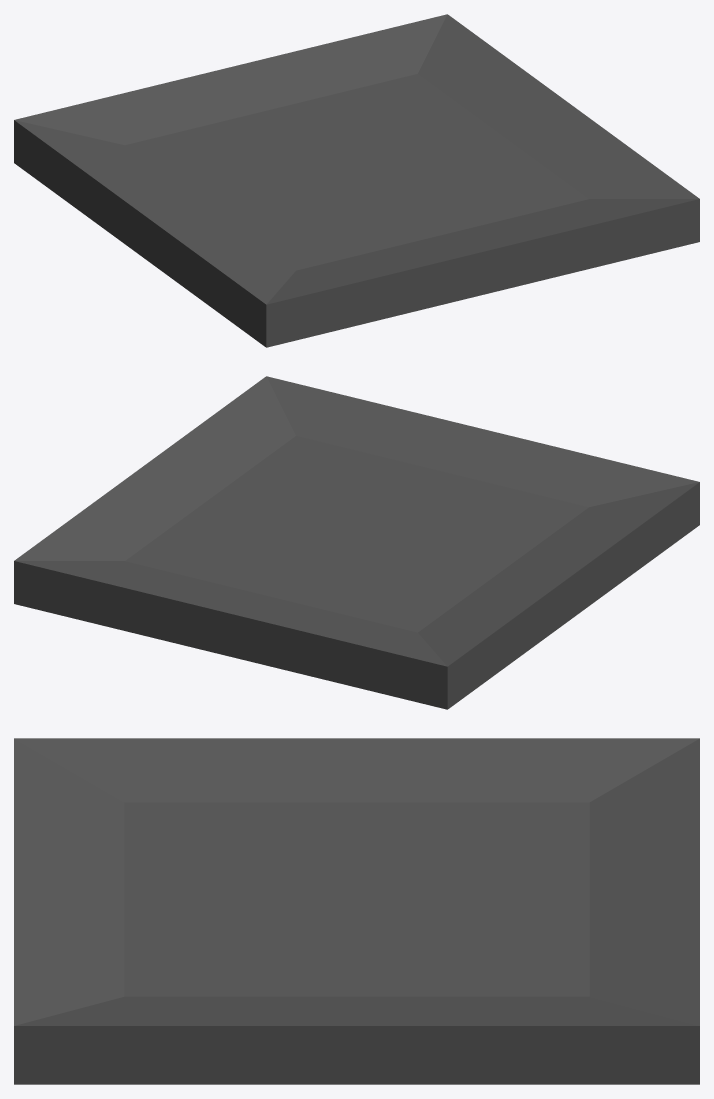
The model's file is Itr_Chair3_Seat_04.FBX.
The picture shows the model from 3 angles, top to bottom: view 1: azimuth 30°, elevation 25°; view 2: azimuth 150°, elevation 25°; view 3: azimuth 270°, elevation 25°; orthographic projection. The views are drawn at different scales.
Parts seen in each view (by area): view 1: Itr_Chair3_Seat_04; view 2: Itr_Chair3_Seat_04; view 3: Itr_Chair3_Seat_04.
Part boxes in pixels (x1,y1,x2,y2): Itr_Chair3_Seat_04: (14, 14, 699, 347); Itr_Chair3_Seat_04: (14, 376, 699, 709); Itr_Chair3_Seat_04: (14, 738, 699, 1084).
Size of the model in its own units: 15.84 by 1.95 by 15.97.
